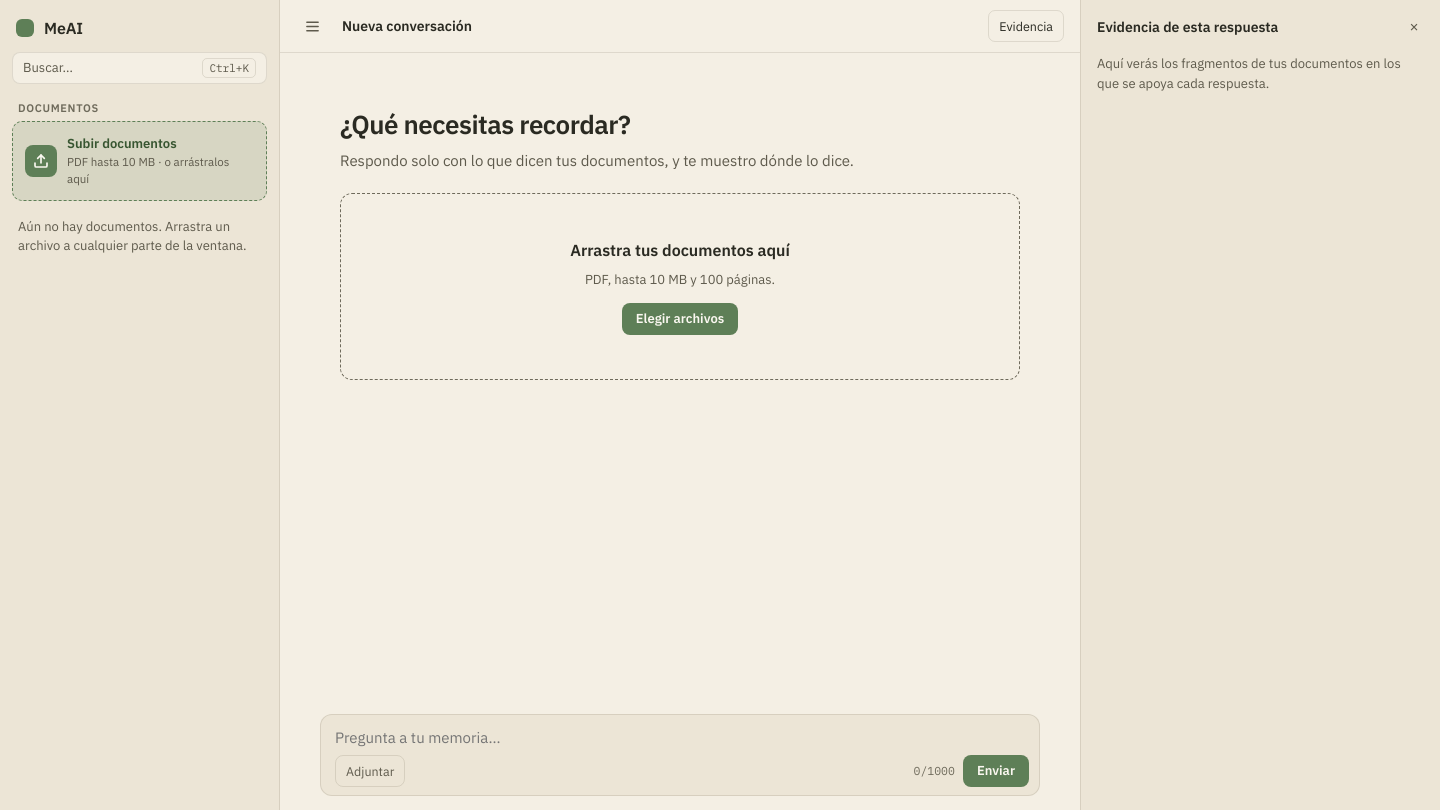
Scenario: keeps conversation messages in tab memory across turns and discards them upon page reload (T47)
# First turn
Type "¿Qué porcentaje cubre la beca?" into the text box named "Escribe tu pregunta". click: (682, 738)
box: [335,724,1029,751]
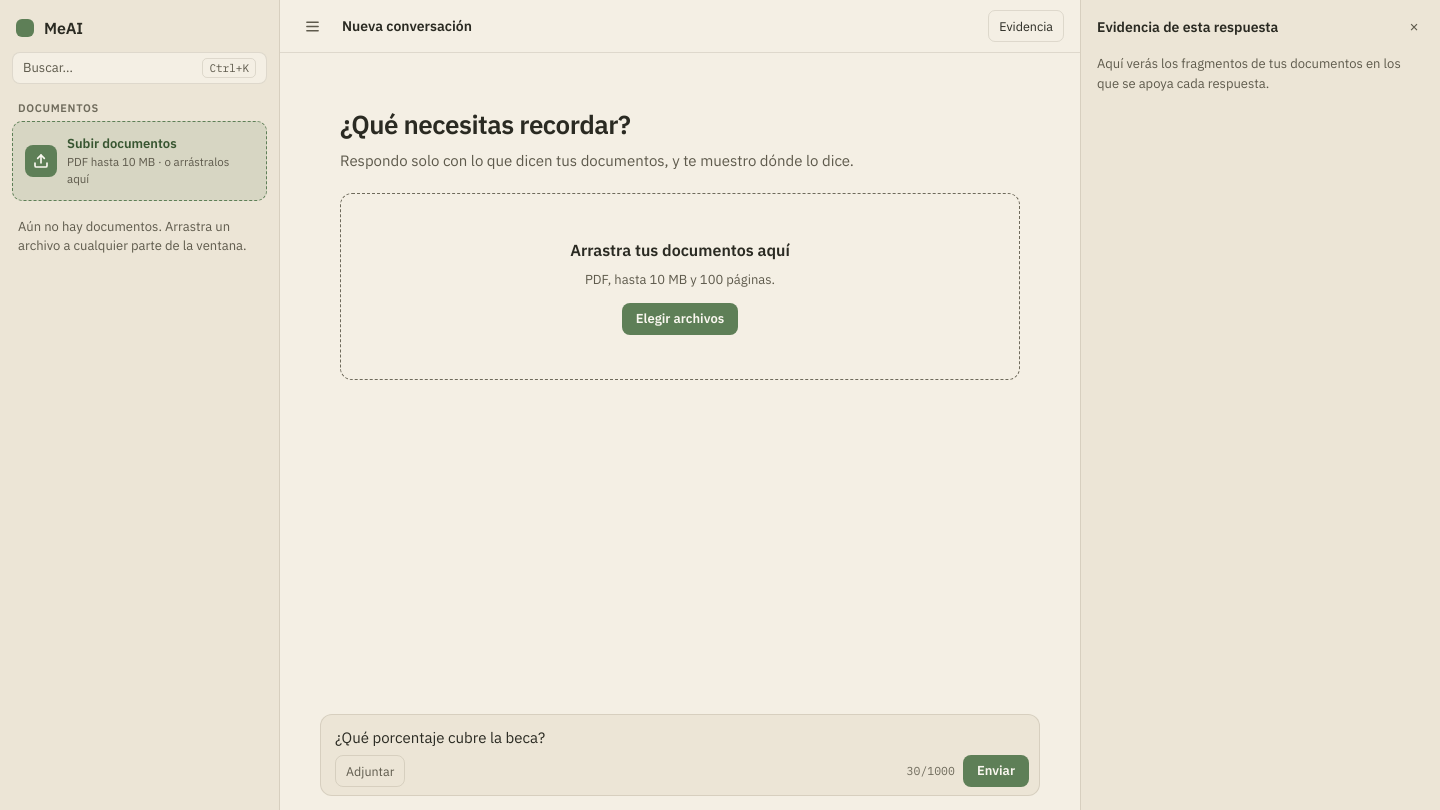
Click the button with aria-label "enviar pregunta". click: (996, 771)
box: [963,755,1029,787]
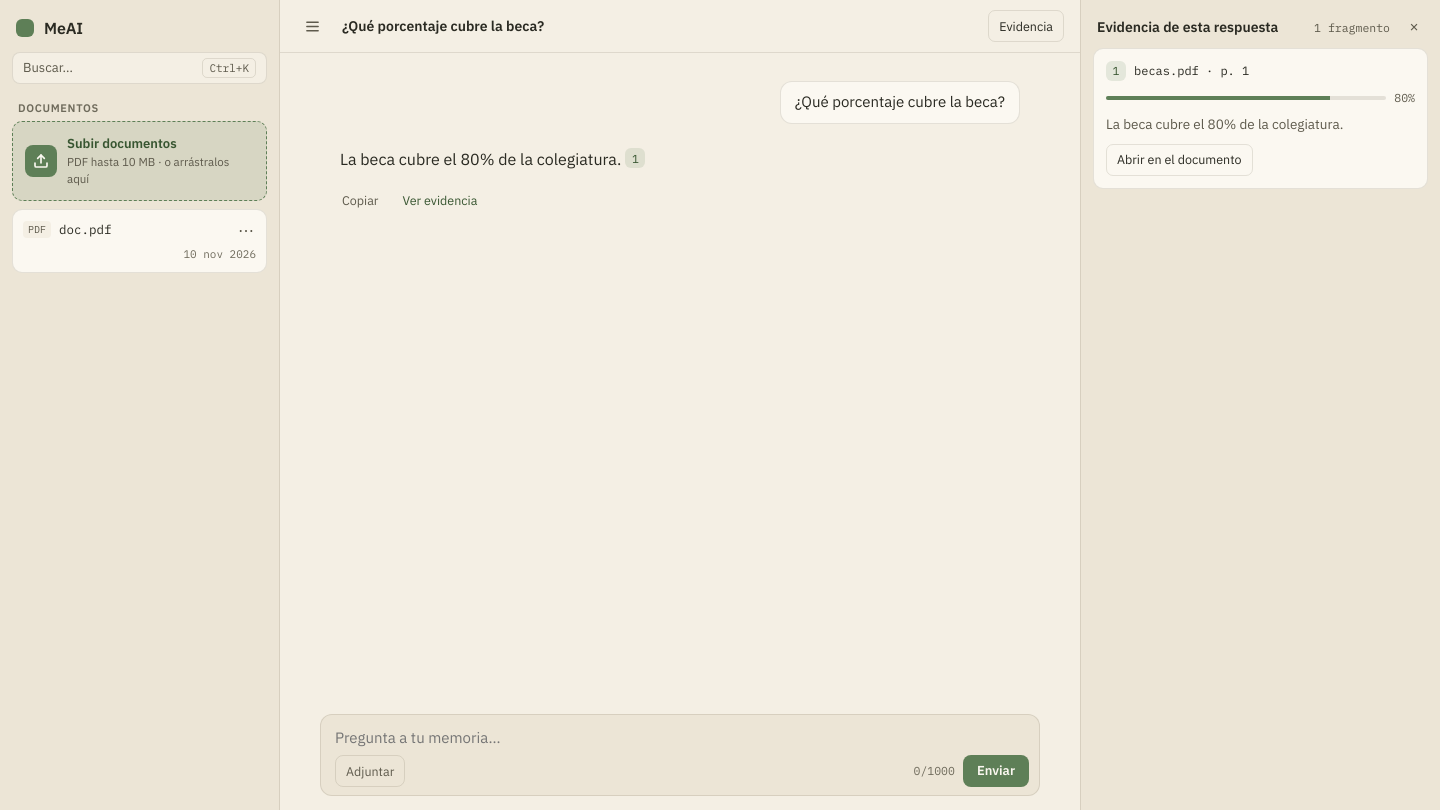
expect the text "La beca cubre el 80% de la colegiatura." is shown: met, box [340,148,621,168]
# Second turn (follow-up in the same tab session)
Type "¿Y cómo se renueva?" into the text box named "Escribe tu pregunta". click: (682, 738)
box: [335,724,1029,751]
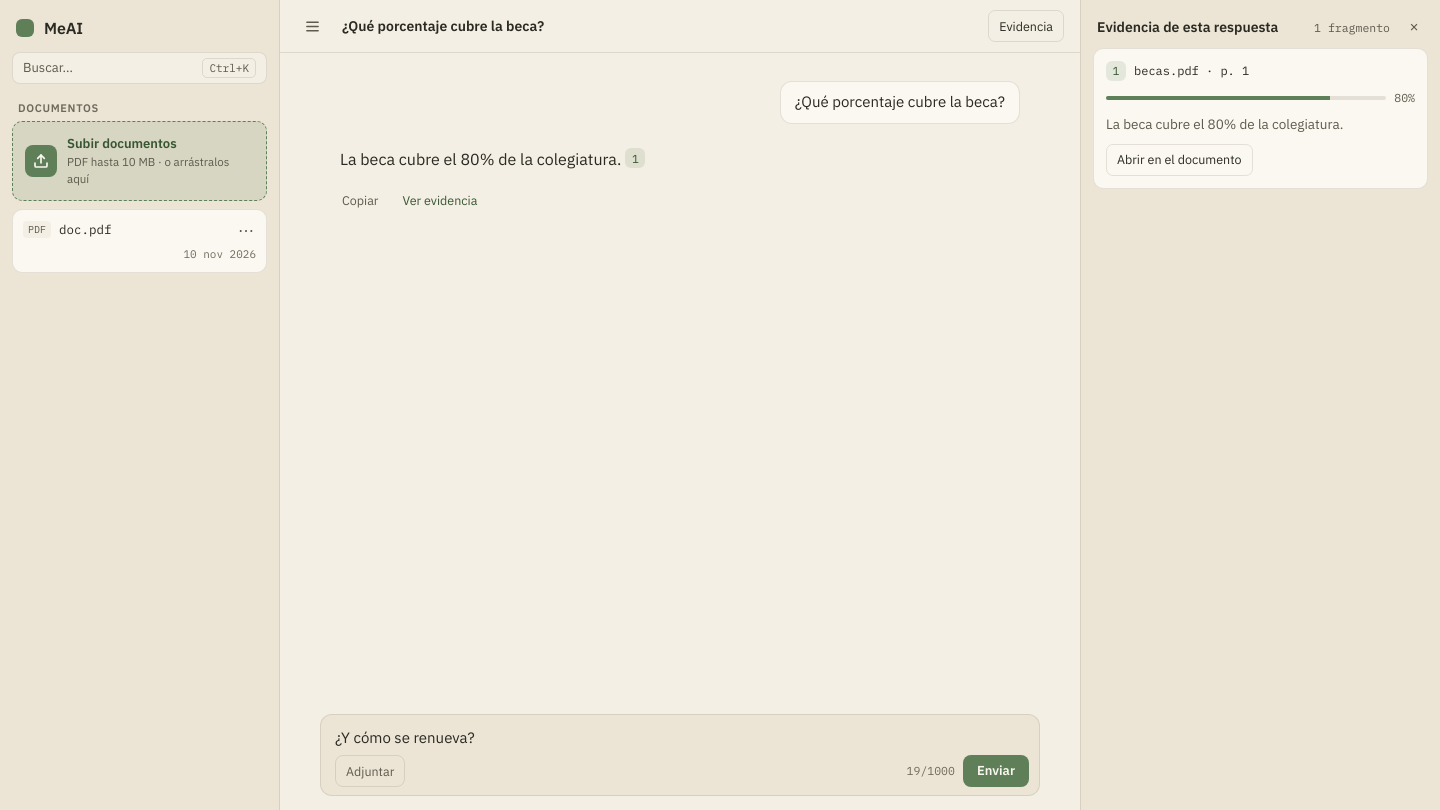
Click the button with aria-label "enviar pregunta". click: (996, 771)
box: [963,755,1029,787]
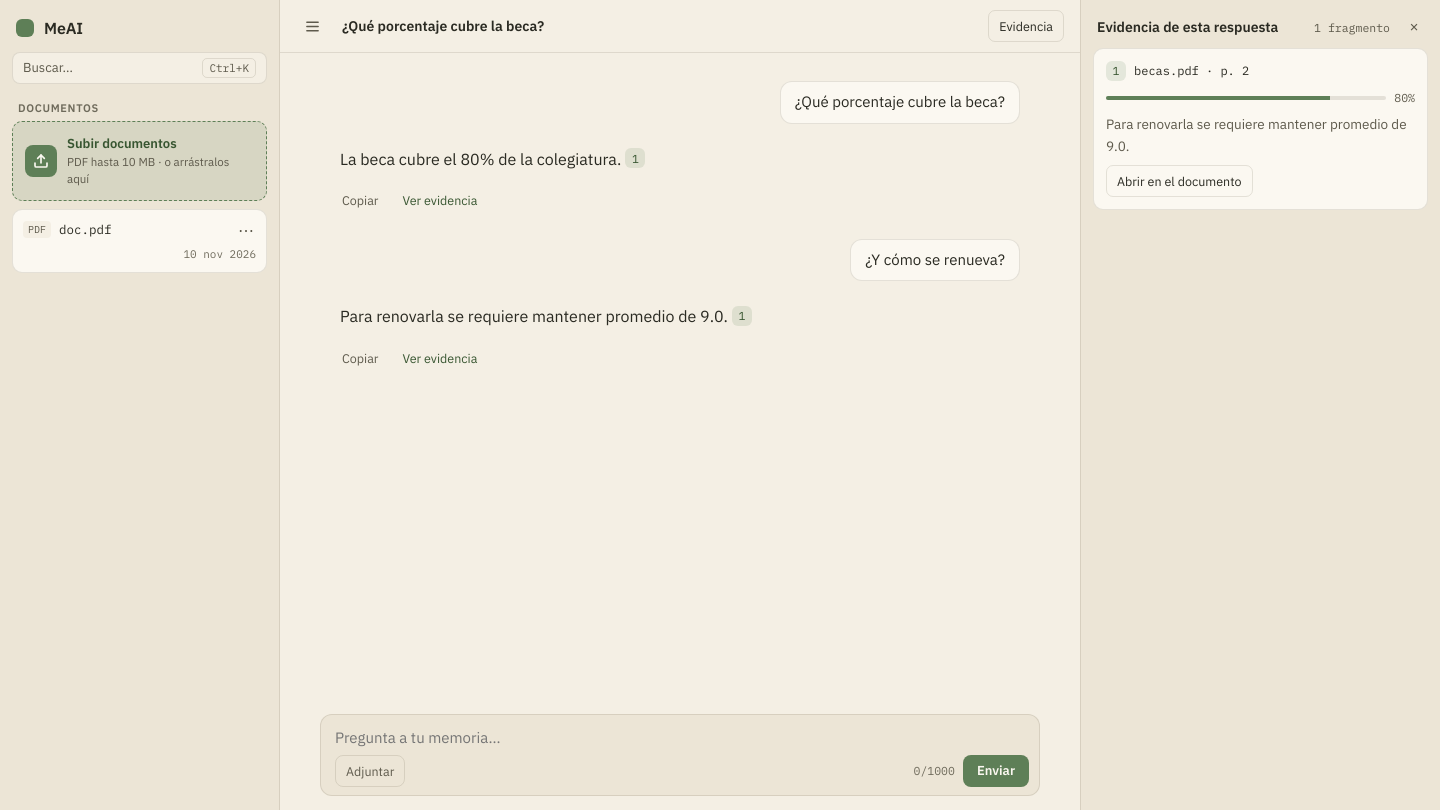
expect the 2nd text "¿Qué porcentaje cubre la beca?" is shown: met, box [780,81,1020,124]
expect the text "La beca cubre el 80% de la colegiatura." is shown: met, box [340,148,621,168]
expect the text "Para renovarla se requiere mantener promedio de 9.0." is shown: met, box [340,306,728,326]
